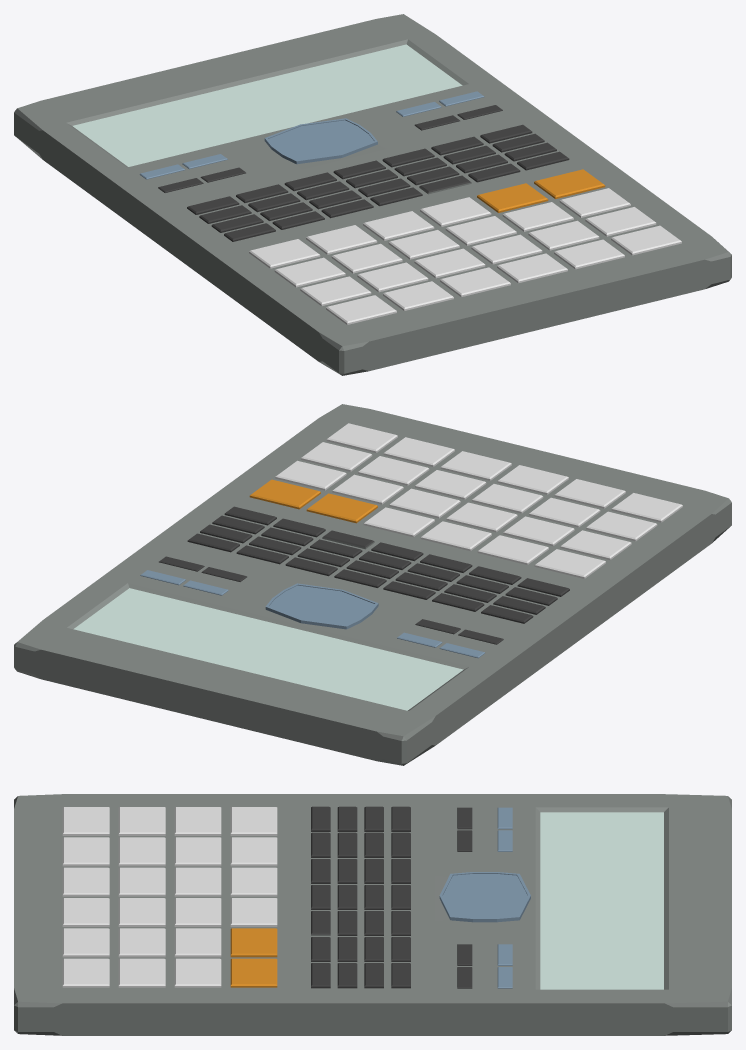
Rendered from CALCULADORA.fbx.
3 renders of one model, top to bottom at view 1: azimuth 30°, elevation 25°; view 2: azimuth 150°, elevation 25°; view 3: azimuth 270°, elevation 25°, orthographic. The views are drawn at different scales.
Visible parts, largest first — view 1: calculadora; view 2: calculadora; view 3: calculadora.
Boxes of the visible parts, box(x1,y1,x2,y2) form: calculadora: box(14, 14, 731, 375); calculadora: box(14, 404, 731, 765); calculadora: box(14, 794, 731, 1035).
Bounding box in the file's own units: 361 × 28.62 × 524.
